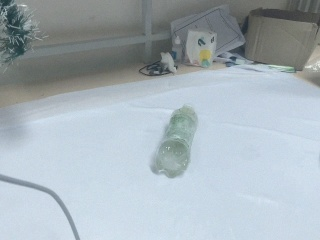bottle: (152, 103, 199, 179)
box: (244, 8, 320, 73)
